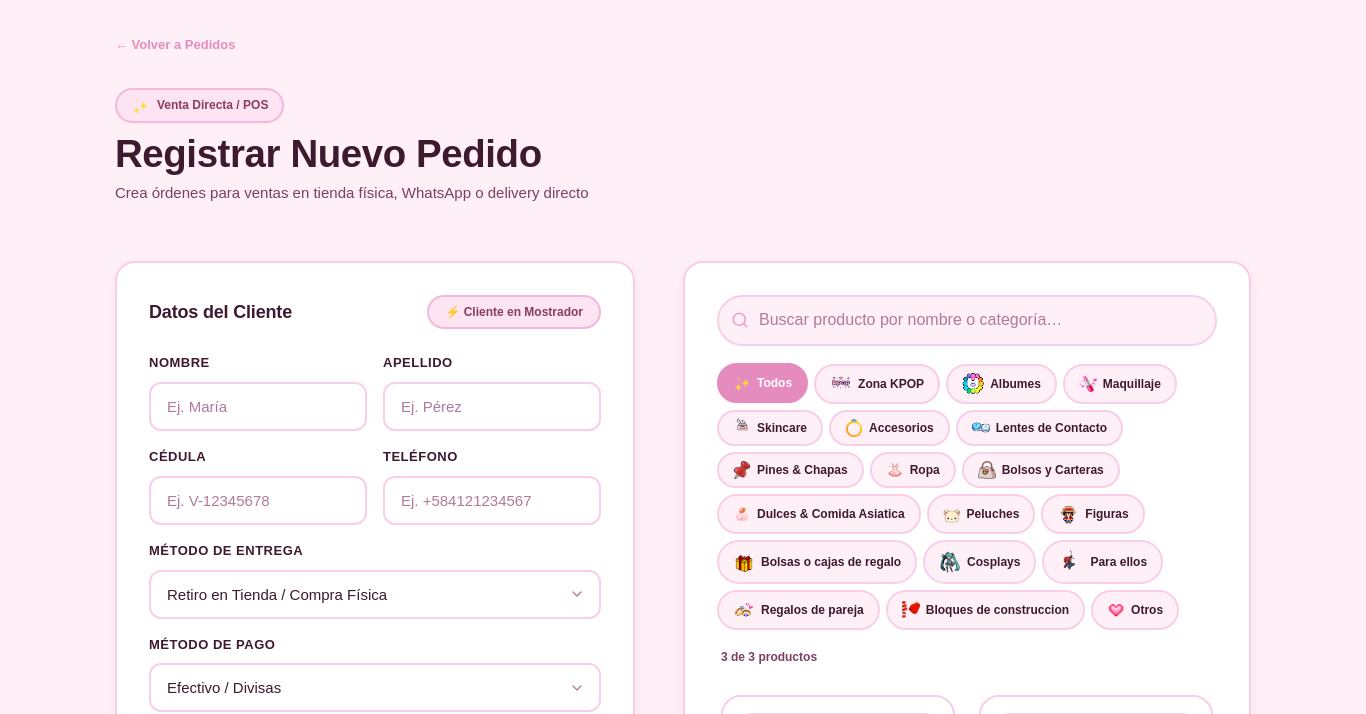
Test case: AdminCreateOrderPage › permite auto-llenar los datos de cliente con "⚡ Cliente en Mostrador"
The width and height of the screenshot is (1366, 714).
Step 1. Click the button "⚡ Cliente en Mostrador" → (514, 312), box [427,295,601,329]
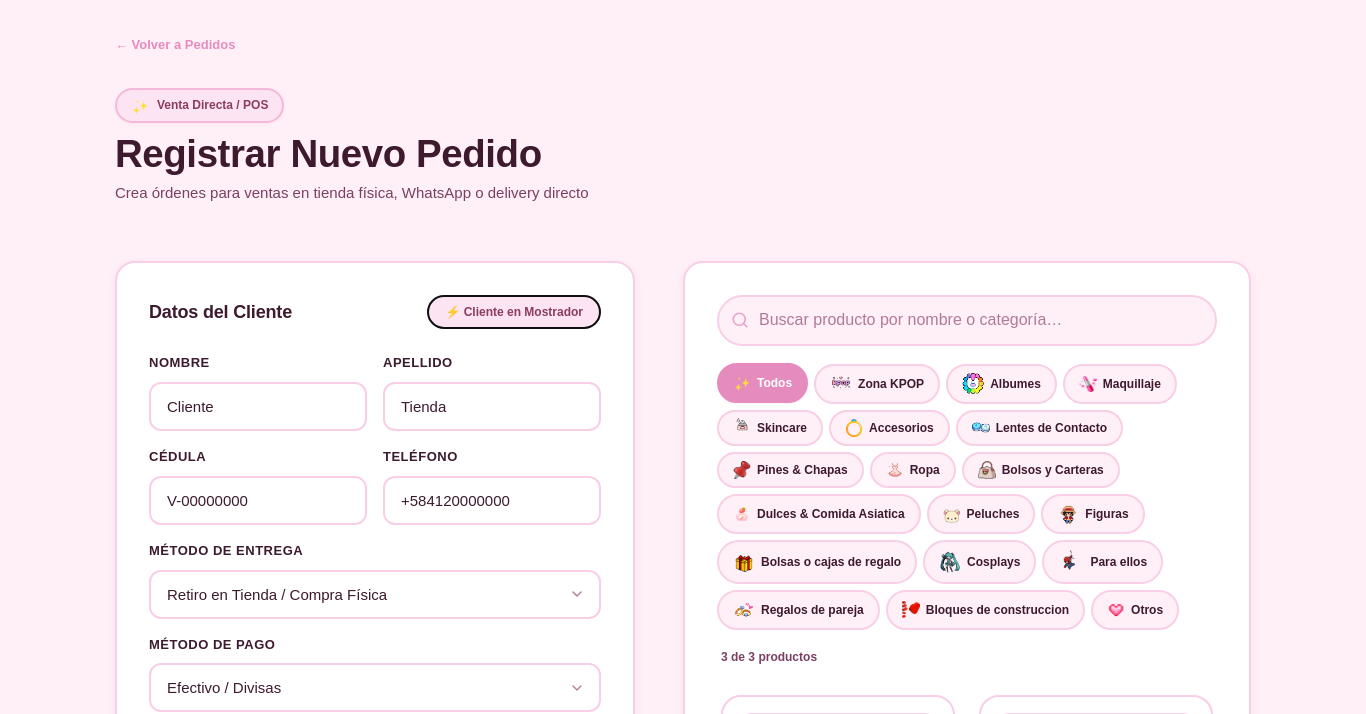
Check: the field labelled "Nombre" holds "Cliente", box [149,382,367,431]
Check: the field labelled "Apellido" holds "Tienda", box [383,382,601,431]
Check: the field labelled "Cédula" holds "V-00000000", box [149,476,367,525]
